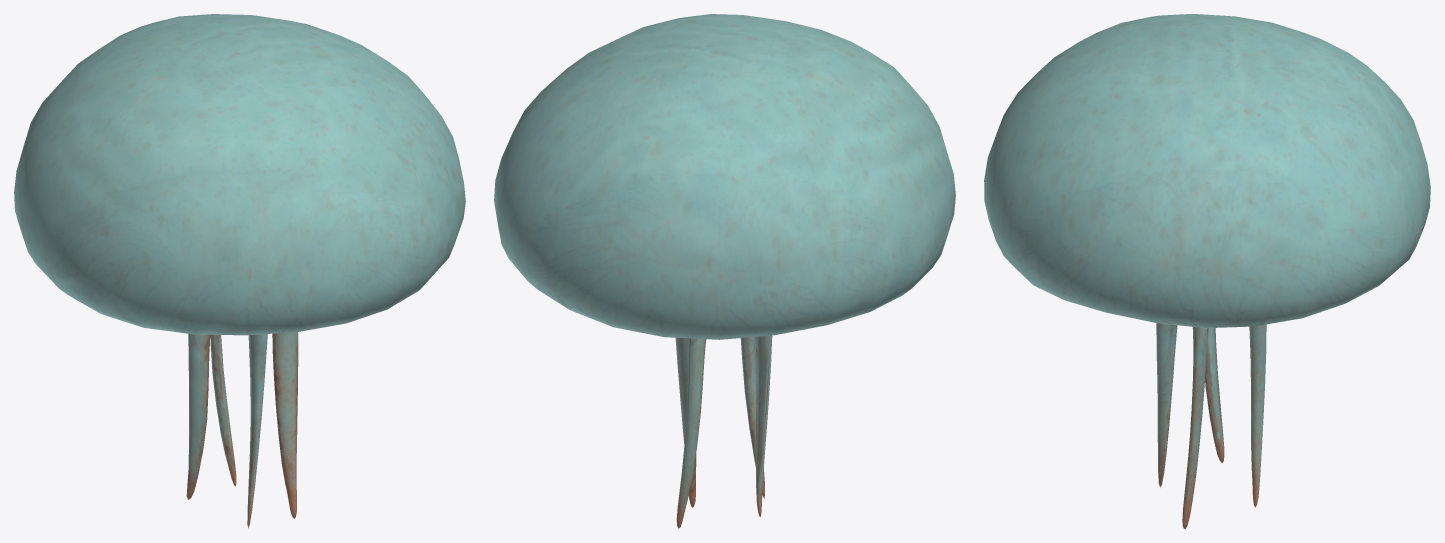
File: jellyfish.fbx
3 renders of one model, left to right at view 1: azimuth 30°, elevation 25°; view 2: azimuth 150°, elevation 25°; view 3: azimuth 270°, elevation 25°, orthographic. The views are drawn at different scales.
Visible parts, largest first — view 1: Jellyfish003_defaultMat_0, Jellyfish001_defaultMat_0, Jellyfish_defaultMat_0; view 2: Jellyfish003_defaultMat_0, Jellyfish001_defaultMat_0, Jellyfish_defaultMat_0; view 3: Jellyfish003_defaultMat_0, Jellyfish001_defaultMat_0, Jellyfish_defaultMat_0.
Boxes of the visible parts, left/top/right/bottom form: Jellyfish003_defaultMat_0: left=14, top=14, right=465, bottom=527; Jellyfish001_defaultMat_0: left=14, top=14, right=465, bottom=527; Jellyfish_defaultMat_0: left=14, top=14, right=464, bottom=484; Jellyfish003_defaultMat_0: left=494, top=14, right=955, bottom=528; Jellyfish001_defaultMat_0: left=494, top=14, right=955, bottom=528; Jellyfish_defaultMat_0: left=494, top=14, right=955, bottom=527; Jellyfish003_defaultMat_0: left=984, top=14, right=1430, bottom=528; Jellyfish001_defaultMat_0: left=984, top=14, right=1430, bottom=528; Jellyfish_defaultMat_0: left=985, top=14, right=1429, bottom=505.
Size of the model in its own units: 6788 by 7937 by 6874.
